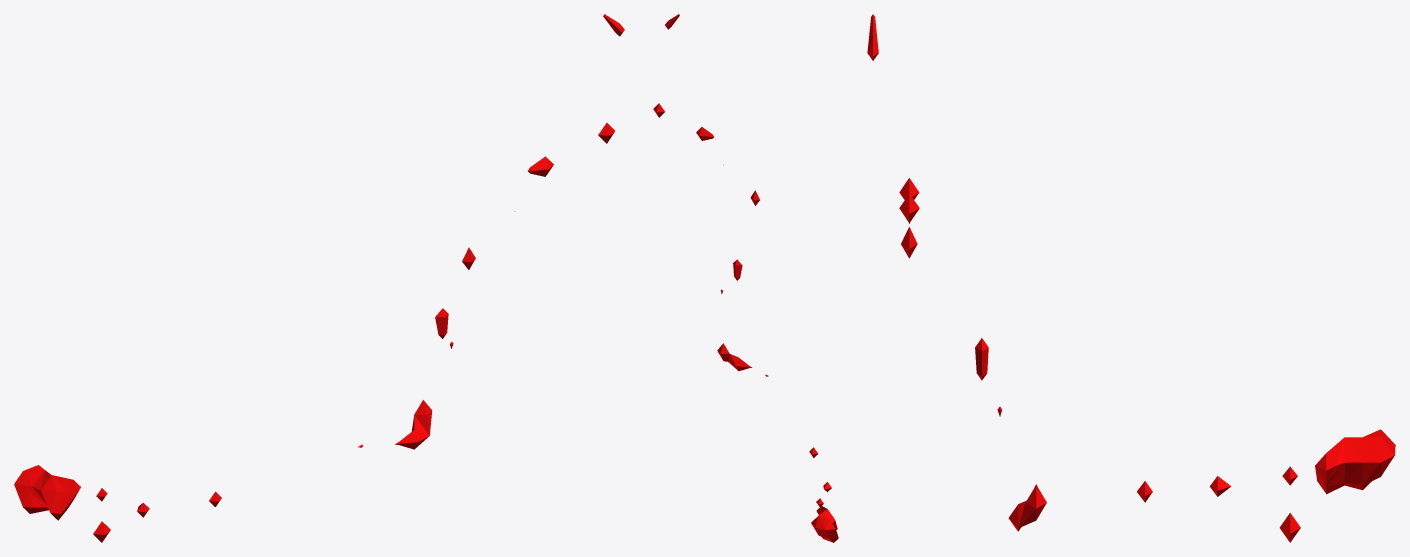
Rendered from fruA_coarse.dae.
The picture shows the model from 3 angles, left to right: view 1: azimuth 30°, elevation 25°; view 2: azimuth 150°, elevation 25°; view 3: azimuth 270°, elevation 25°; orthographic projection. The views are drawn at different scales.
Parts seen in each view (by area): view 1: fruA; view 2: fruA; view 3: fruA.
Boxes of the visible parts, x1,y1,x2,y2 form: fruA: (14,14,624,542); fruA: (653,14,838,542); fruA: (867,14,1395,542).
Size of the model in its own units: 455 by 557 by 347.
